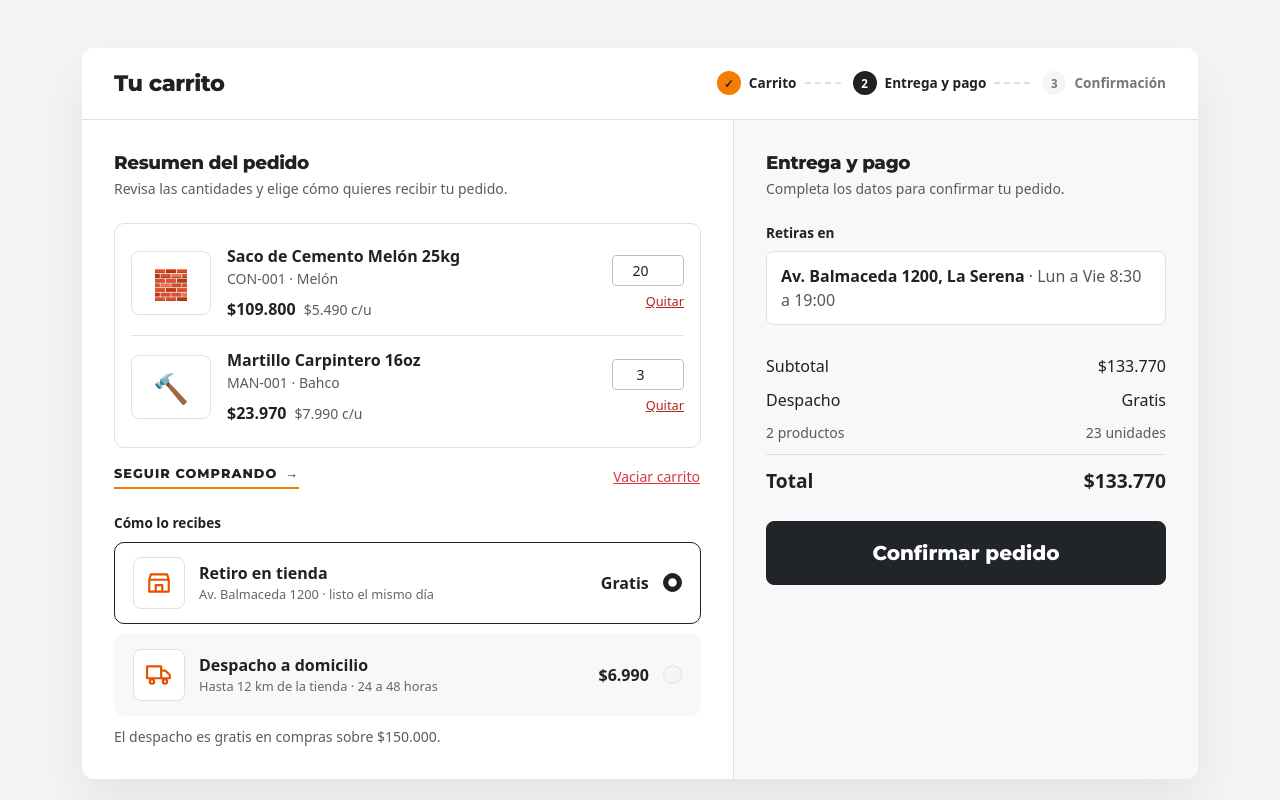
Carrito › no deja pedir mas que el stock disponible
Replace the text in the number field named "Cantidad de Martillo Carpintero 16oz" with "99". click: (648,375)
box: [612,359,684,390]
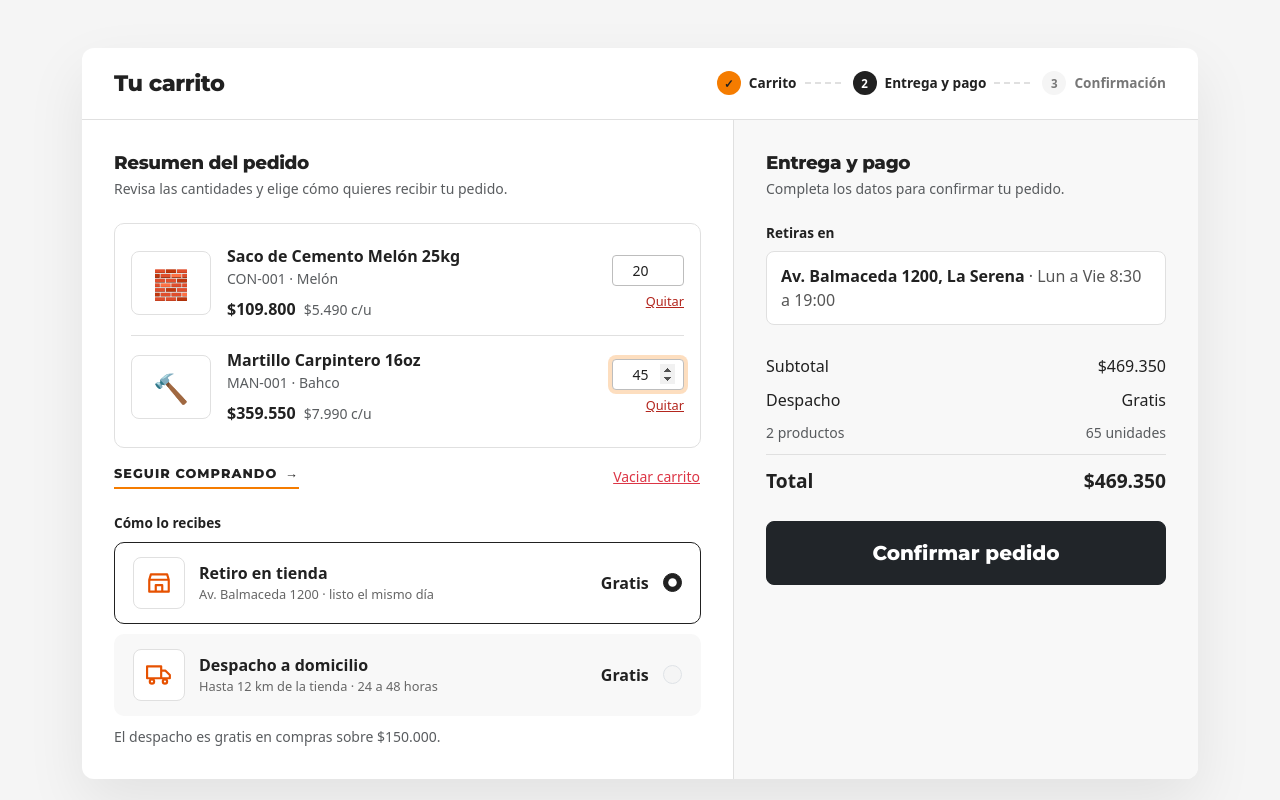
Result: the number field named "Cantidad de Martillo Carpintero 16oz" holds "45" at [612,359,684,390]
